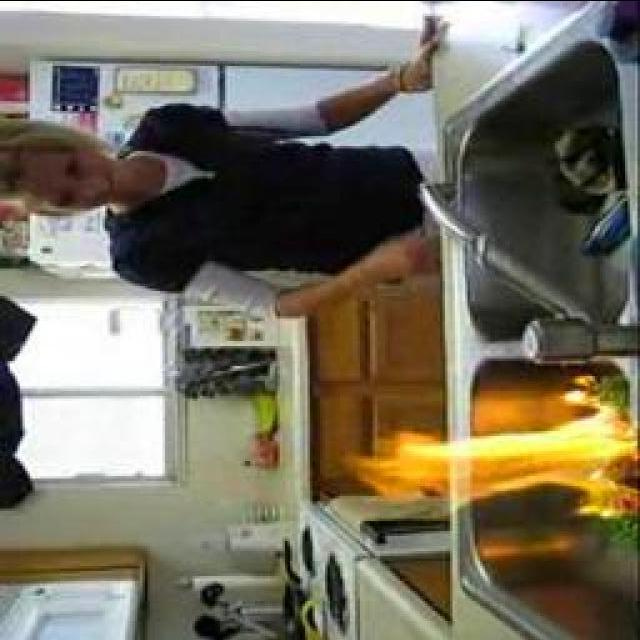Fire: (340, 389, 635, 517)
